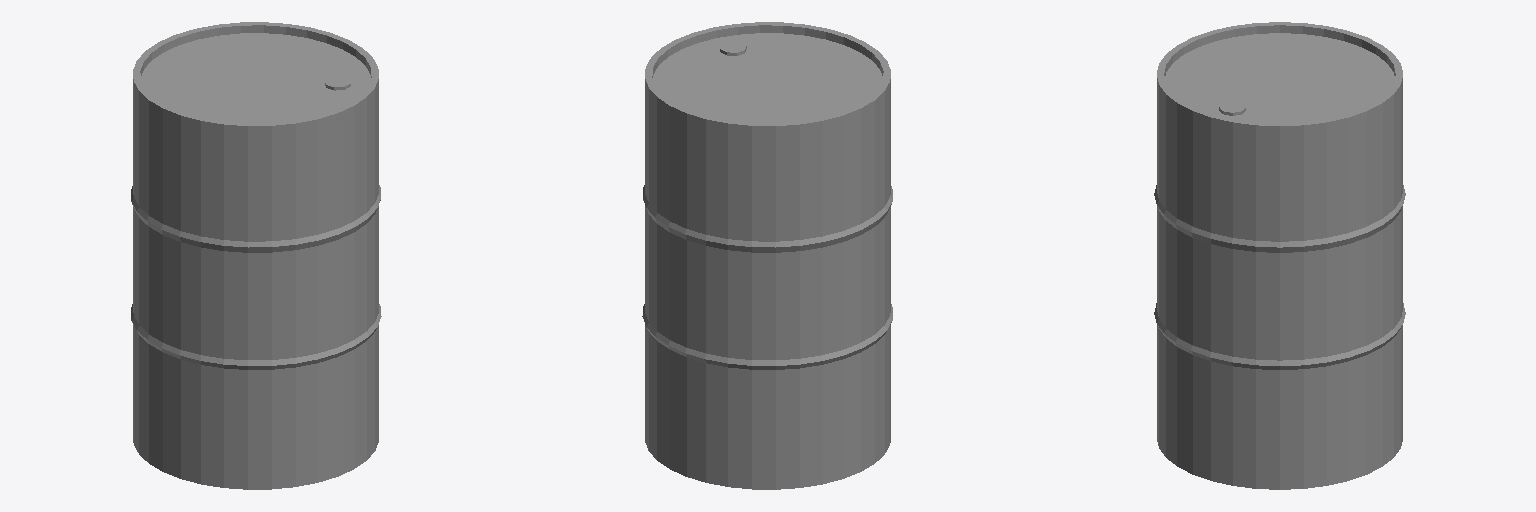
Rendered from Radioactive_barrel.obj.
The picture shows the model from 3 angles: view 1: azimuth 30°, elevation 25°; view 2: azimuth 150°, elevation 25°; view 3: azimuth 270°, elevation 25°; orthographic projection.
Visible parts, largest first — view 1: Cylinder_Cylinder.001; view 2: Cylinder_Cylinder.001; view 3: Cylinder_Cylinder.001.
Part boxes in pixels (left/top/right/bottom): Cylinder_Cylinder.001: left=131, top=22, right=381, bottom=489; Cylinder_Cylinder.001: left=642, top=22, right=892, bottom=489; Cylinder_Cylinder.001: left=1154, top=22, right=1405, bottom=489.
Bounding box in the file's own units: 7.32 × 11.66 × 7.32.